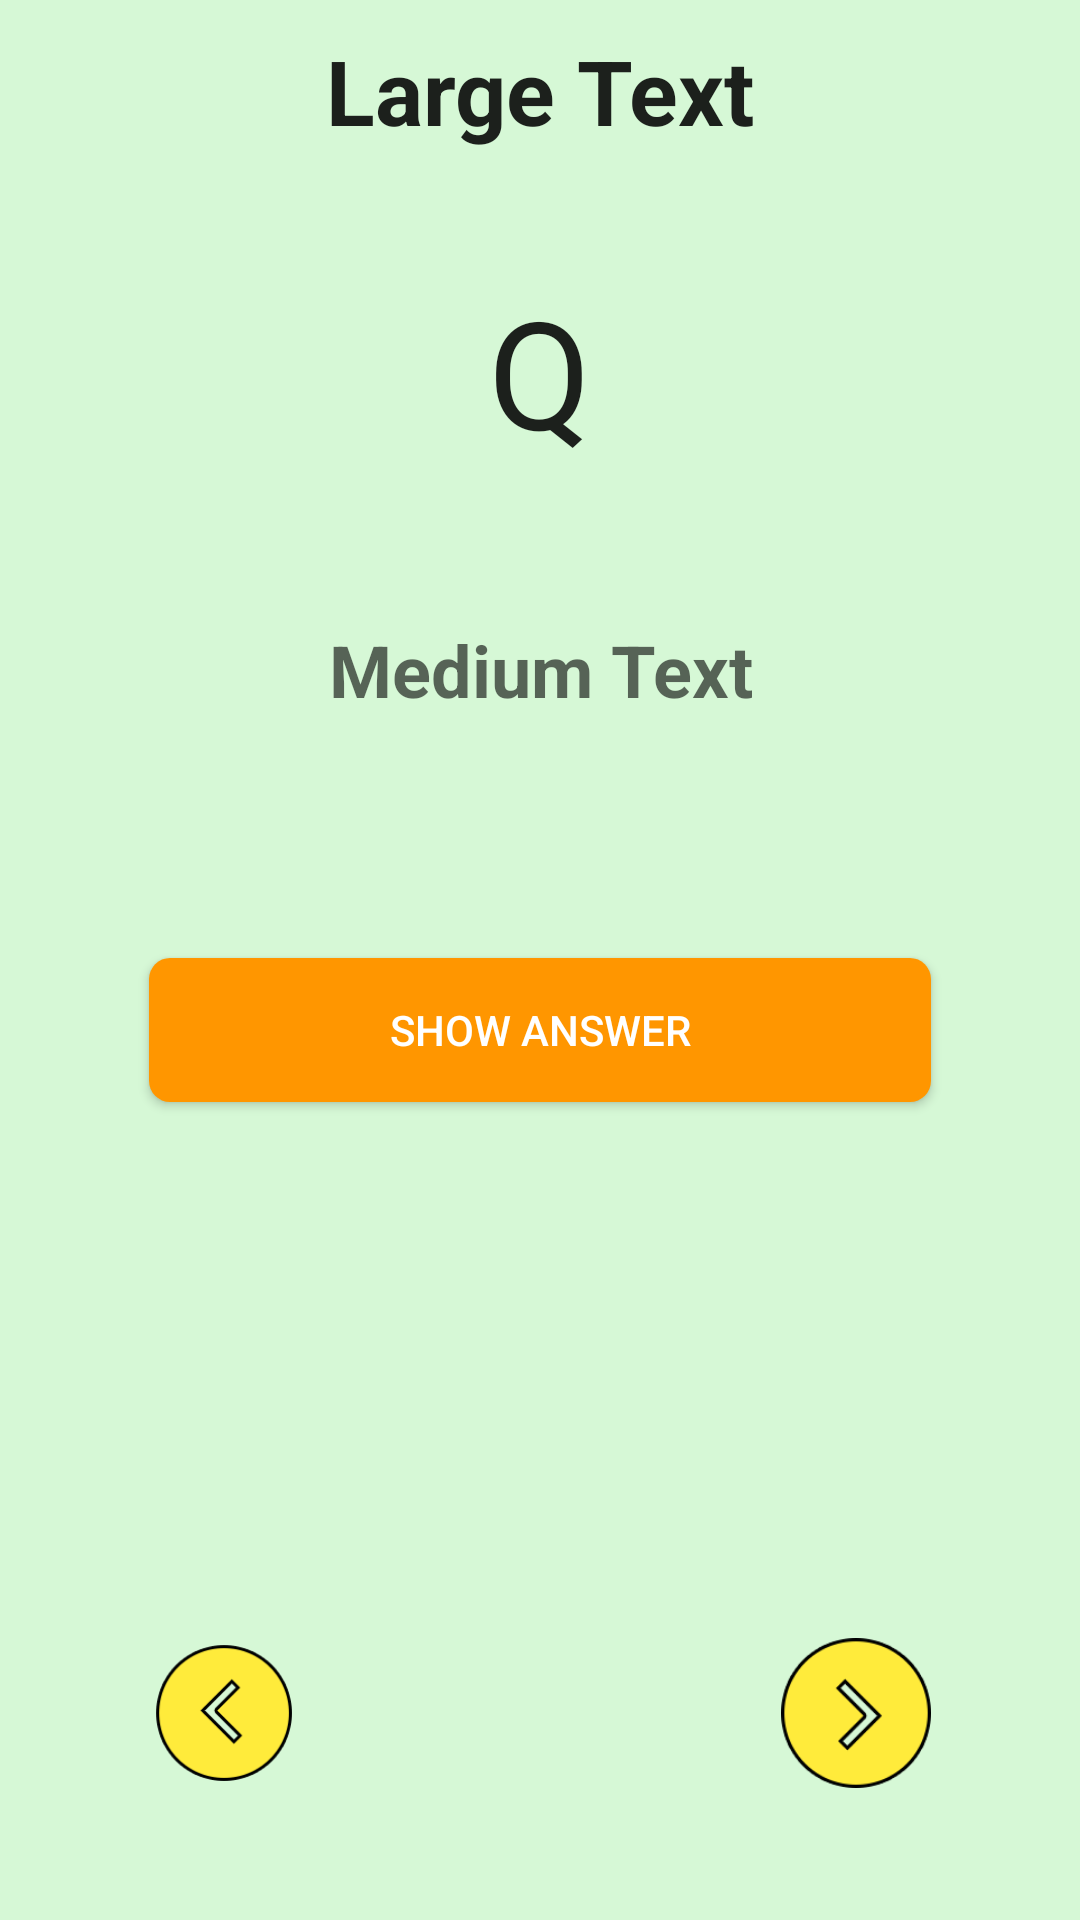

Icon bounding boxes for this 1080 × 1920 phone screenshot, format box=[x1, y1, x2, y2]:
next: box=[781, 1638, 931, 1788]
previous: box=[156, 1645, 292, 1781]
